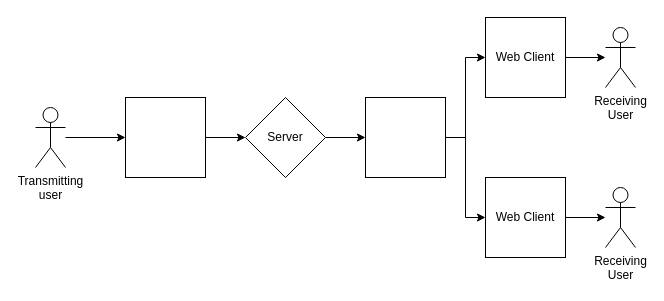
The diagram is 664 pixels wide and 301 high, and some of its shapes have lost their labels. Here are the shapes that lost their labels. From the top down, the centre of each, then its label:
At point (165, 137): "TC".
At point (405, 137): "RC".
